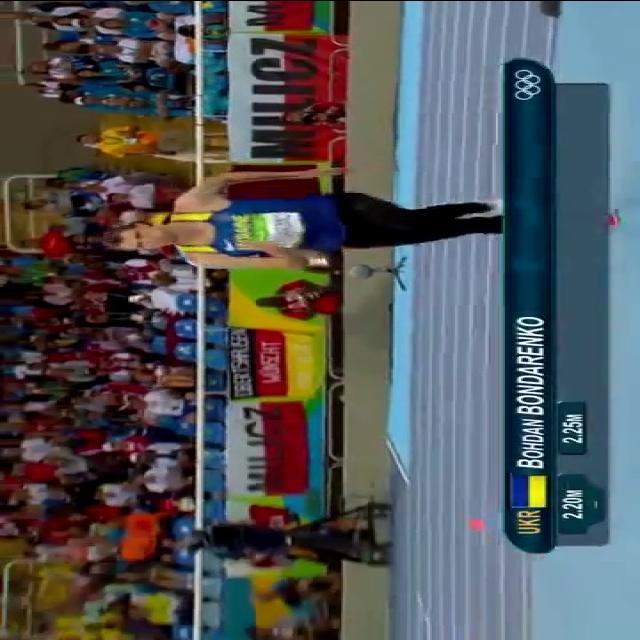NonViolence: (104, 168, 502, 268)
